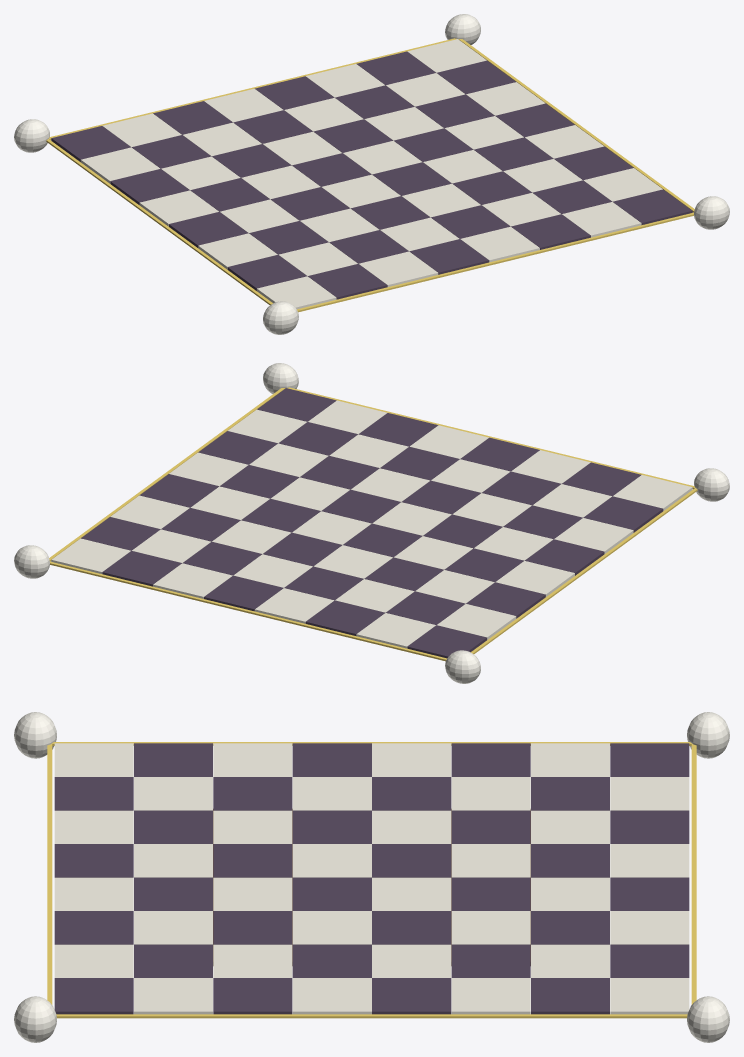
File: board.glb
The picture shows the model from 3 angles, top to bottom: view 1: azimuth 30°, elevation 25°; view 2: azimuth 150°, elevation 25°; view 3: azimuth 270°, elevation 25°; orthographic projection. The views are drawn at different scales.
Visible parts, largest first — view 1: Tile_B1, Tile_C1, Tile_H1, Tile_D1, Tile_G1, Tile_E1, Tile_F1, Tile_A7, Tile_A2, Tile_A3, Tile_A4, Tile_A8 (+60 smaller); view 2: Tile_B8, Tile_C8, Tile_H8, Tile_D8, Tile_G8, Tile_E8, Tile_F8, Tile_A2, Tile_A7, Tile_A6, Tile_A1, Tile_A5 (+60 smaller); view 3: Khối Lập Phương, Tile_H3, Tile_H4, Tile_H5, Tile_H6, Tile_H1, Tile_H8, Tile_H2, Tile_H7, Tile_A1, Tile_A3, Tile_A4 (+61 smaller).
Boxes of the visible parts, left/top/right/bottom form: Tile_B1: left=308, top=264, right=387, bottom=299; Tile_C1: left=359, top=251, right=438, bottom=286; Tile_H1: left=613, top=189, right=692, bottom=224; Tile_D1: left=409, top=239, right=489, bottom=274; Tile_G1: left=562, top=202, right=641, bottom=237; Tile_E1: left=460, top=226, right=539, bottom=262; Tile_F1: left=511, top=214, right=590, bottom=249; Tile_A7: left=80, top=147, right=160, bottom=183; Tile_A2: left=227, top=255, right=306, bottom=290; Tile_A3: left=198, top=233, right=277, bottom=269; Tile_A4: left=169, top=212, right=248, bottom=247; Tile_A8: left=51, top=126, right=130, bottom=161; Tile_B8: left=356, top=613, right=435, bottom=648; Tile_C8: left=305, top=600, right=384, bottom=635; Tile_H8: left=51, top=538, right=130, bottom=573; Tile_D8: left=254, top=588, right=334, bottom=623; Tile_G8: left=102, top=551, right=181, bottom=586; Tile_E8: left=204, top=575, right=283, bottom=611; Tile_F8: left=153, top=563, right=232, bottom=598; Tile_A2: left=583, top=496, right=663, bottom=532; Tile_A7: left=437, top=604, right=516, bottom=639; Tile_A6: left=466, top=582, right=545, bottom=618; Tile_A1: left=613, top=475, right=692, bottom=510; Tile_A5: left=495, top=561, right=574, bottom=596; Khối Lập Phương: left=56, top=1014, right=687, bottom=1018; Tile_H3: left=213, top=978, right=292, bottom=1014; Tile_H4: left=292, top=978, right=371, bottom=1014; Tile_H5: left=372, top=978, right=451, bottom=1014; Tile_H6: left=451, top=978, right=530, bottom=1014; Tile_H1: left=54, top=978, right=133, bottom=1014; Tile_H8: left=610, top=978, right=689, bottom=1014; Tile_H2: left=134, top=978, right=212, bottom=1014; Tile_H7: left=531, top=978, right=609, bottom=1014; Tile_A1: left=54, top=743, right=133, bottom=776; Tile_A3: left=213, top=743, right=292, bottom=776; Tile_A4: left=292, top=743, right=371, bottom=776.
Bounding box in the file's own units: 4.56 × 0.288 × 4.51.
